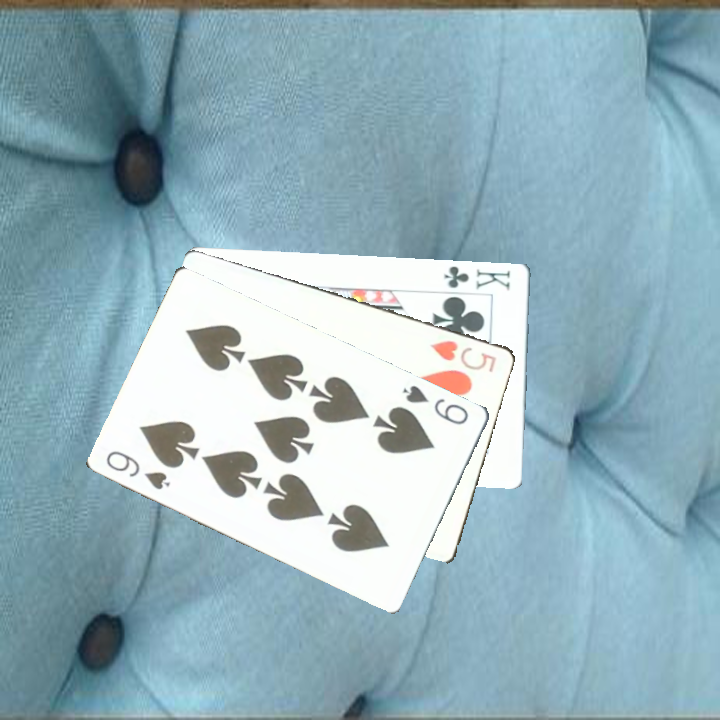5h: (425, 336, 499, 375)
9s: (398, 381, 472, 428), (101, 446, 173, 493)
Kc: (437, 263, 513, 305)
